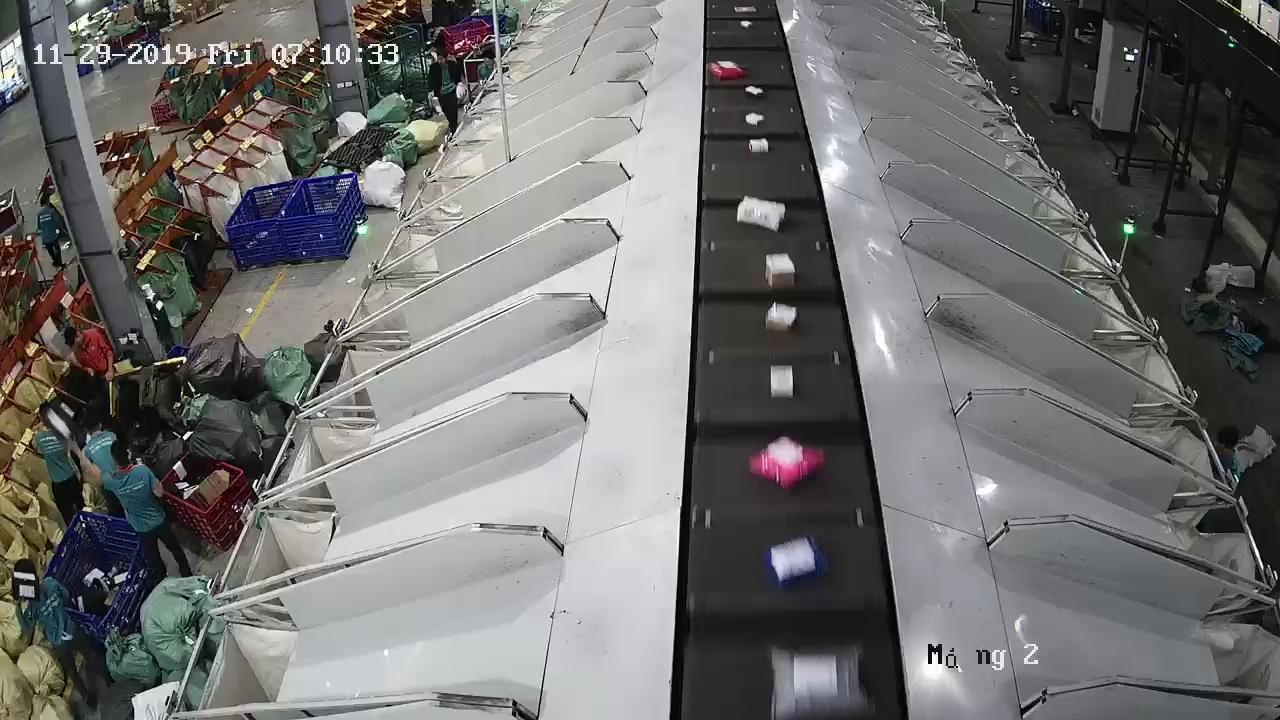parcel: (736, 195, 786, 232), (764, 253, 795, 290), (765, 302, 797, 332), (710, 60, 748, 82), (745, 111, 765, 128), (744, 85, 764, 101), (749, 137, 769, 153)
